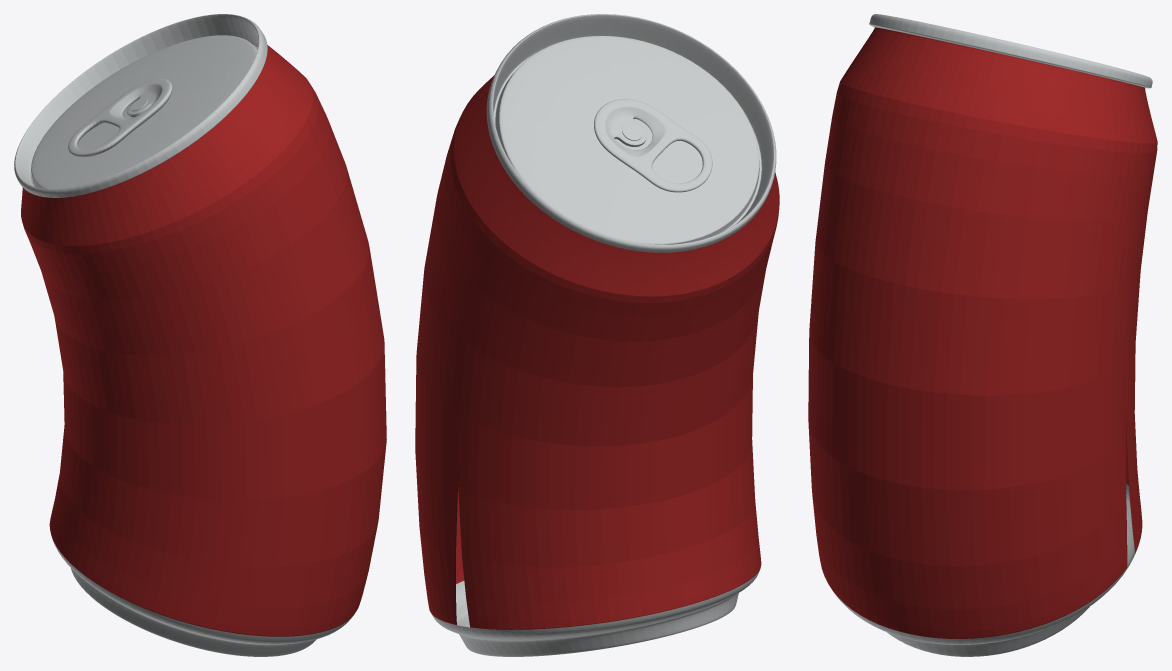
File: bend_medium_1.obj
The picture shows the model from 3 angles, left to right: view 1: azimuth 30°, elevation 25°; view 2: azimuth 150°, elevation 25°; view 3: azimuth 270°, elevation 25°; orthographic projection. The views are drawn at different scales.
Visible parts, largest first — view 1: model; view 2: model; view 3: model.
Part boxes in pixels (left/top/right/bottom): model: left=14, top=14, right=386, bottom=656; model: left=415, top=14, right=779, bottom=656; model: left=808, top=14, right=1157, bottom=656.
Size of the model in its own units: 0.0779 by 0.1389 by 0.0732.
1 material, 1 textured.
